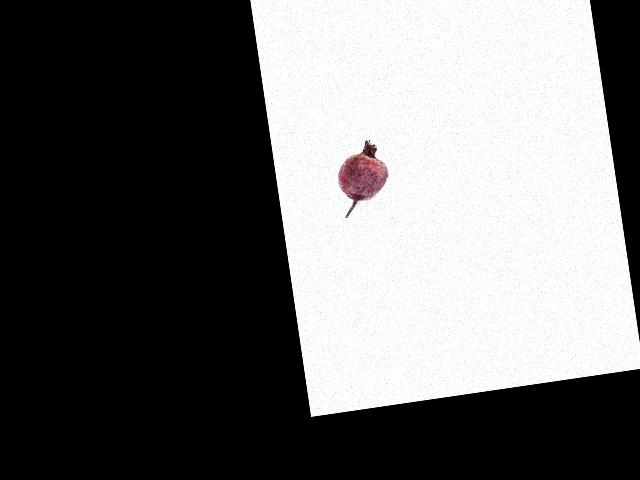beet: (332, 137, 393, 218)
